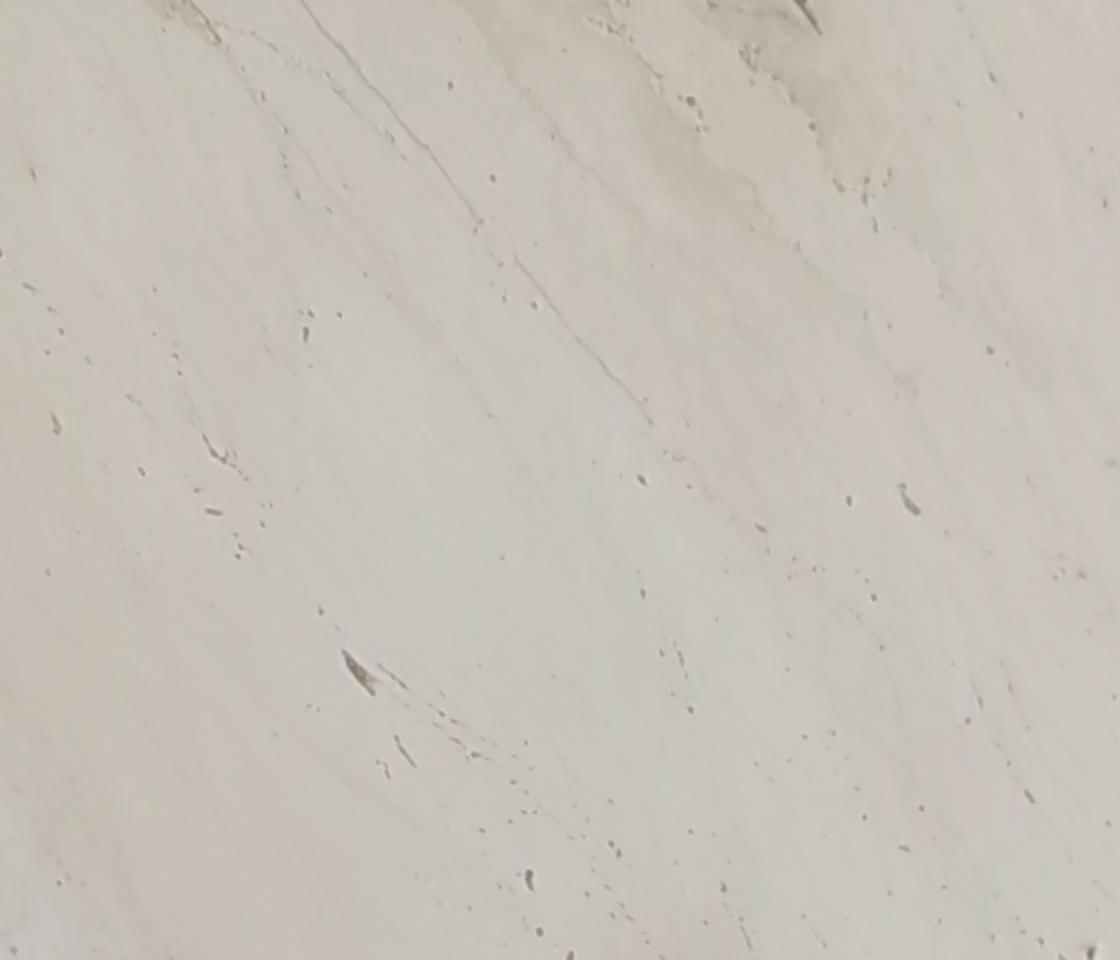scratch: (338, 644, 384, 706)
